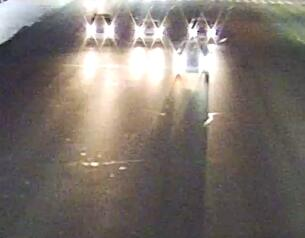car: (81, 9, 119, 45), (185, 13, 219, 47), (134, 17, 166, 46)
